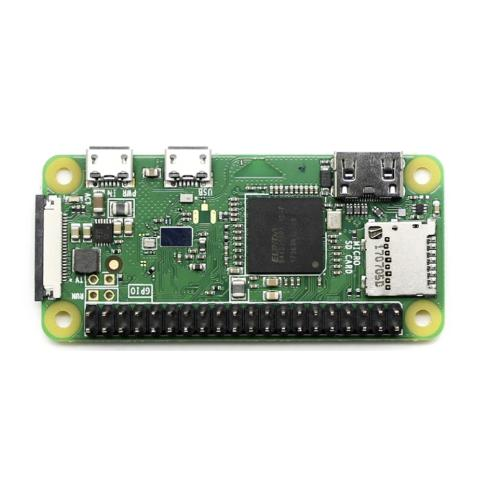Raspberry-Pi-Zero-WH: (34, 146, 444, 342)
